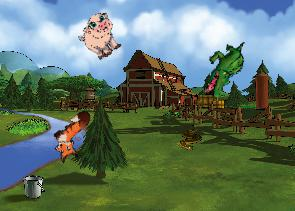crocodile: (202, 37, 246, 101)
fox: (43, 107, 105, 166)
pig: (73, 8, 128, 64)
